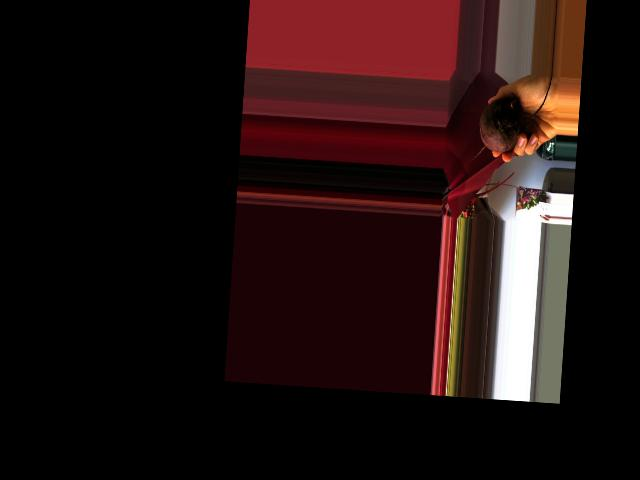beet: (469, 71, 552, 166)
